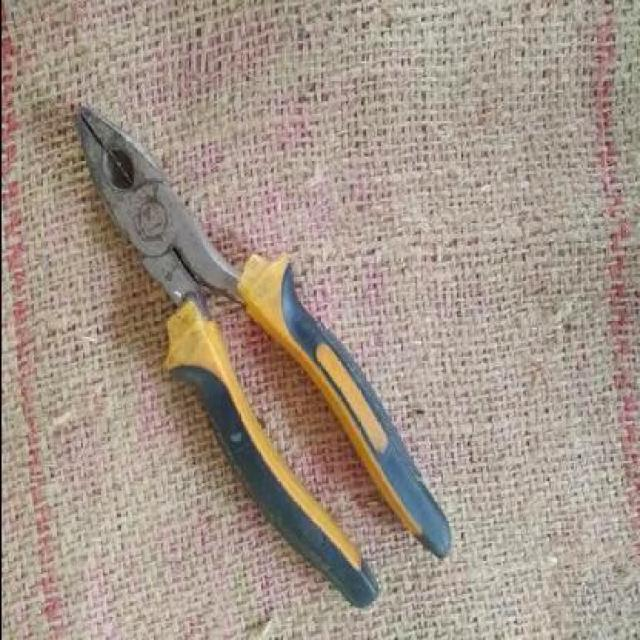pliers: (59, 104, 454, 621)
